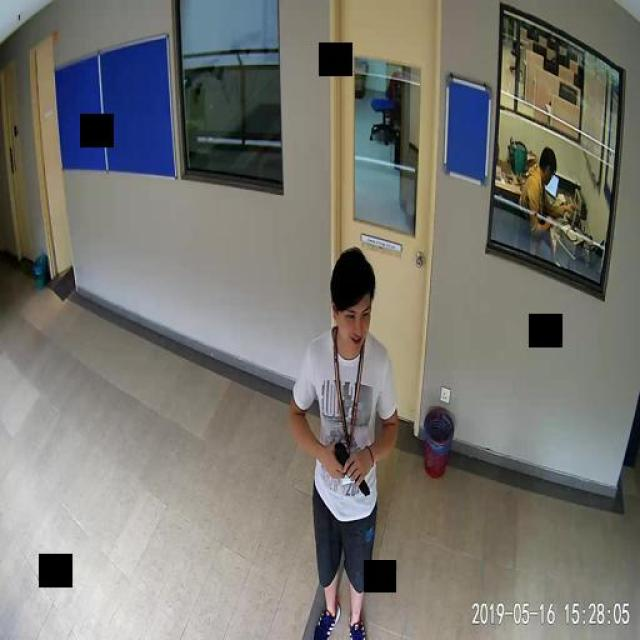gun: (330, 444, 368, 495)
